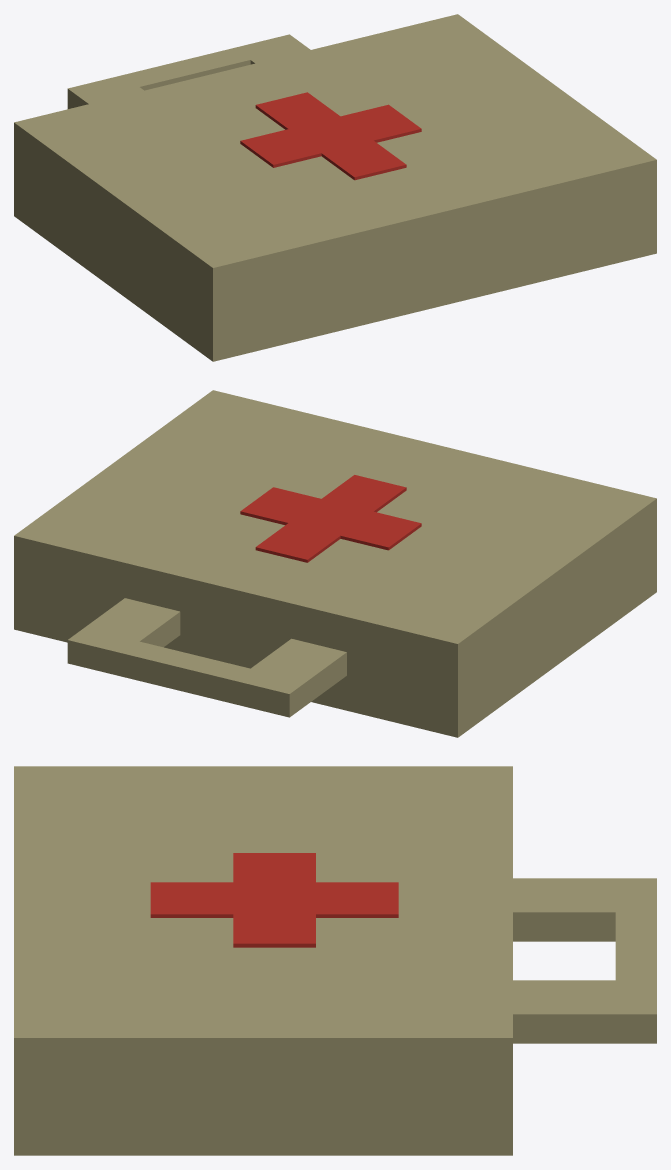
The model's file is MedKit.fbx.
The picture shows the model from 3 angles, top to bottom: view 1: azimuth 30°, elevation 25°; view 2: azimuth 150°, elevation 25°; view 3: azimuth 270°, elevation 25°; orthographic projection. The views are drawn at different scales.
Parts seen in each view (by area): view 1: Cube, Cube.001; view 2: Cube, Cube.001; view 3: Cube, Cube.001.
Boxes of the visible parts, box(x1,y1,x2,y2) form: Cube: box(14, 14, 656, 361); Cube.001: box(240, 92, 421, 180); Cube: box(14, 390, 656, 737); Cube.001: box(240, 475, 421, 562); Cube: box(14, 766, 656, 1155); Cube.001: box(150, 853, 398, 947).
Bounding box in the file's own units: 200 × 41.67 × 200.
